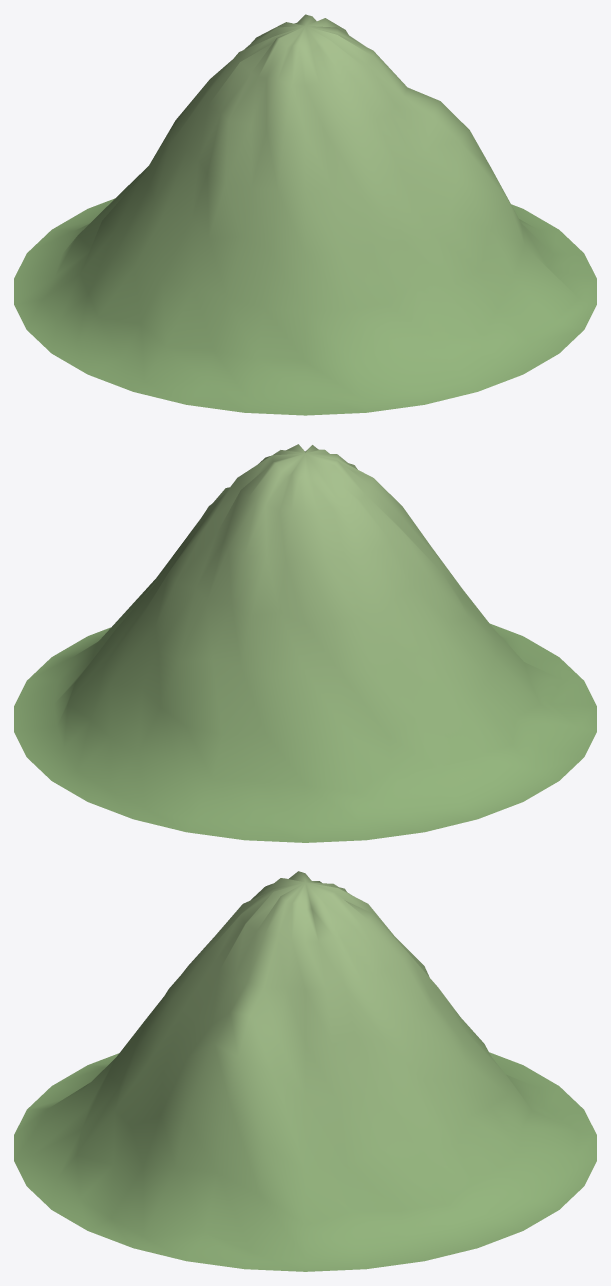
The model's file is hill.glb.
The picture shows the model from 3 angles, top to bottom: view 1: azimuth 30°, elevation 25°; view 2: azimuth 150°, elevation 25°; view 3: azimuth 270°, elevation 25°; orthographic projection.
Visible parts, largest first — view 1: hill_terrain; view 2: hill_terrain; view 3: hill_terrain.
Boxes of the visible parts, x1,y1,x2,y2 form: hill_terrain: [14, 14, 596, 415]; hill_terrain: [14, 444, 596, 842]; hill_terrain: [14, 871, 596, 1271].
Size of the model in its own units: 2 by 1 by 1.99.
